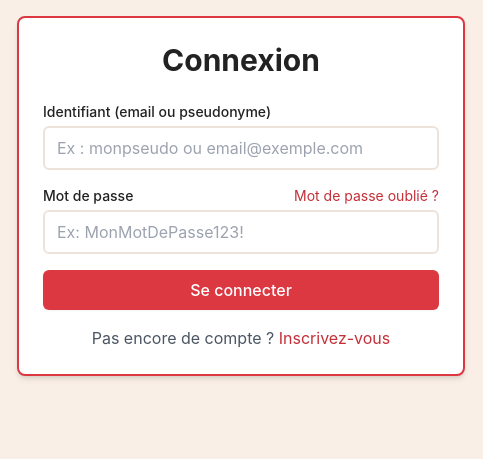
Scenario: Auth Flow (intégration) › login échoue avec un mauvais utilisateur
The image size is (483, 459).
Type "nonexistent" into the field labelled "Identifiant (email ou pseudonyme)" at (241, 148), box [43,126,439,170]
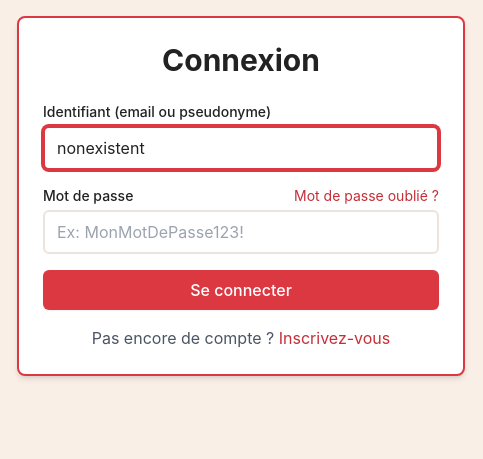
Type "wrong" into the password field labelled "Mot de passe" at (241, 232), box [43,210,439,254]
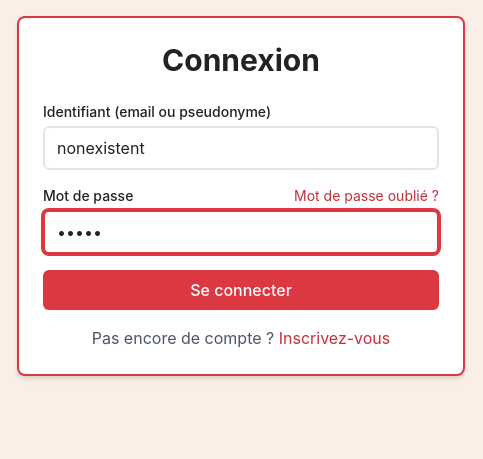
Click the button "Se connecter" at (241, 290), box [43,270,439,310]
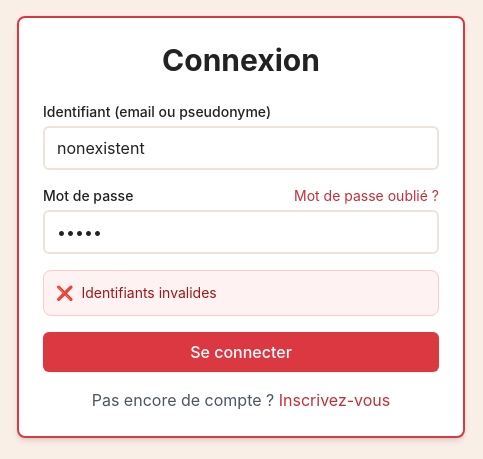
Expected: the text "Identifiants invalides" is shown, [82,284,217,301]
